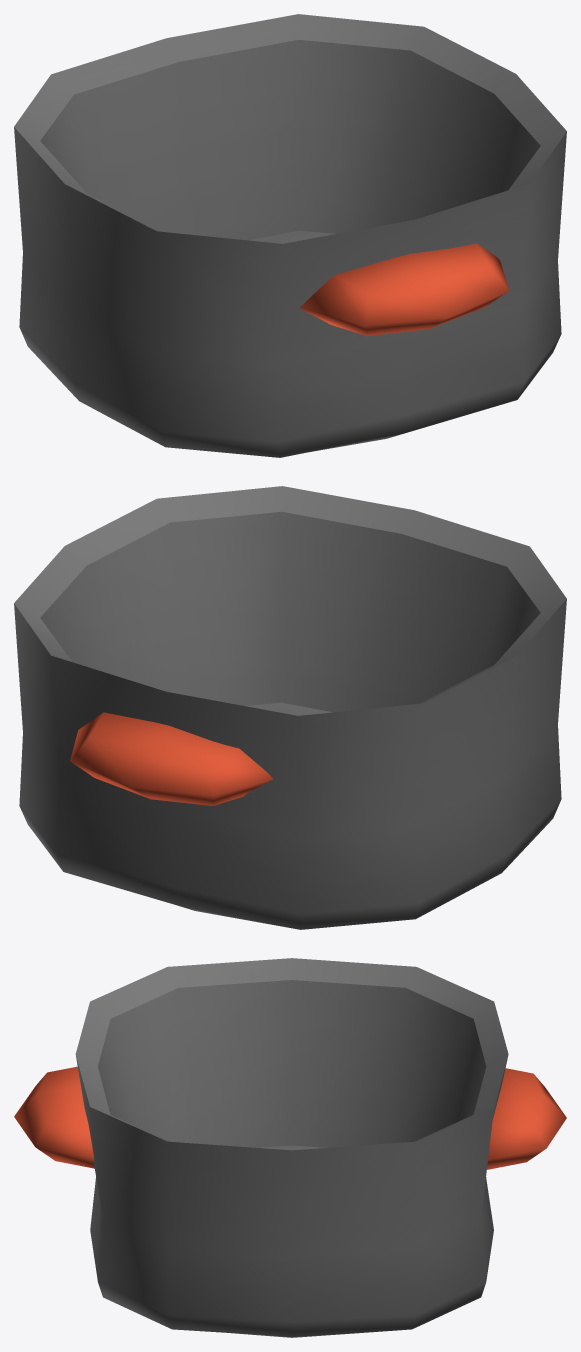
The model's file is cooking_pot.obj.
3 views of the same model, one above another, from view 1: azimuth 30°, elevation 25°; view 2: azimuth 150°, elevation 25°; view 3: azimuth 270°, elevation 25° (orthographic). The views are drawn at different scales.
Visible parts, largest first — view 1: cooking_pot; view 2: cooking_pot; view 3: cooking_pot.
Boxes of the visible parts, x1,y1,x2,y2 form: cooking_pot: (14, 14, 566, 457); cooking_pot: (14, 486, 566, 929); cooking_pot: (14, 958, 566, 1337).
Size of the model in its own units: 0.4821 by 0.2446 by 0.586.
